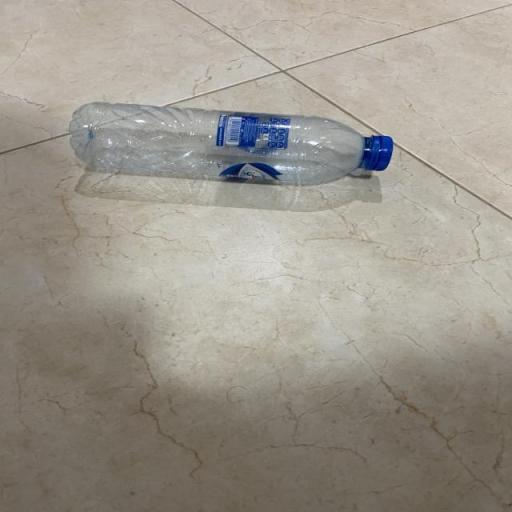plastic: (70, 100, 401, 186)
